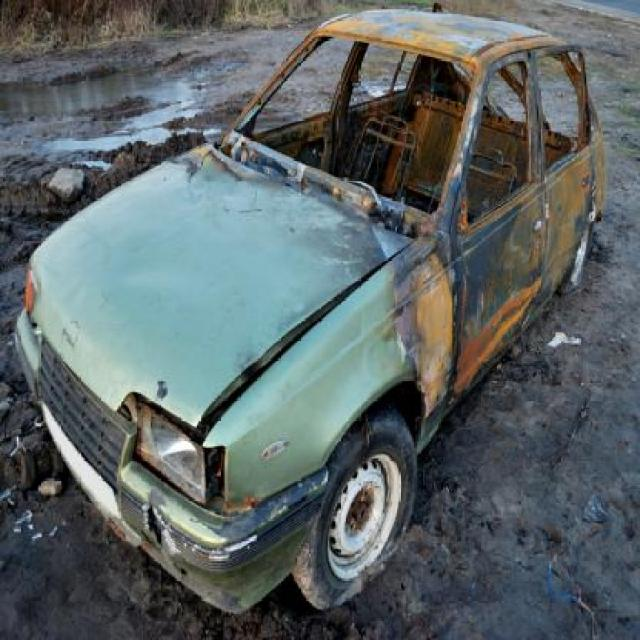corrosion: (225, 1, 608, 412)
